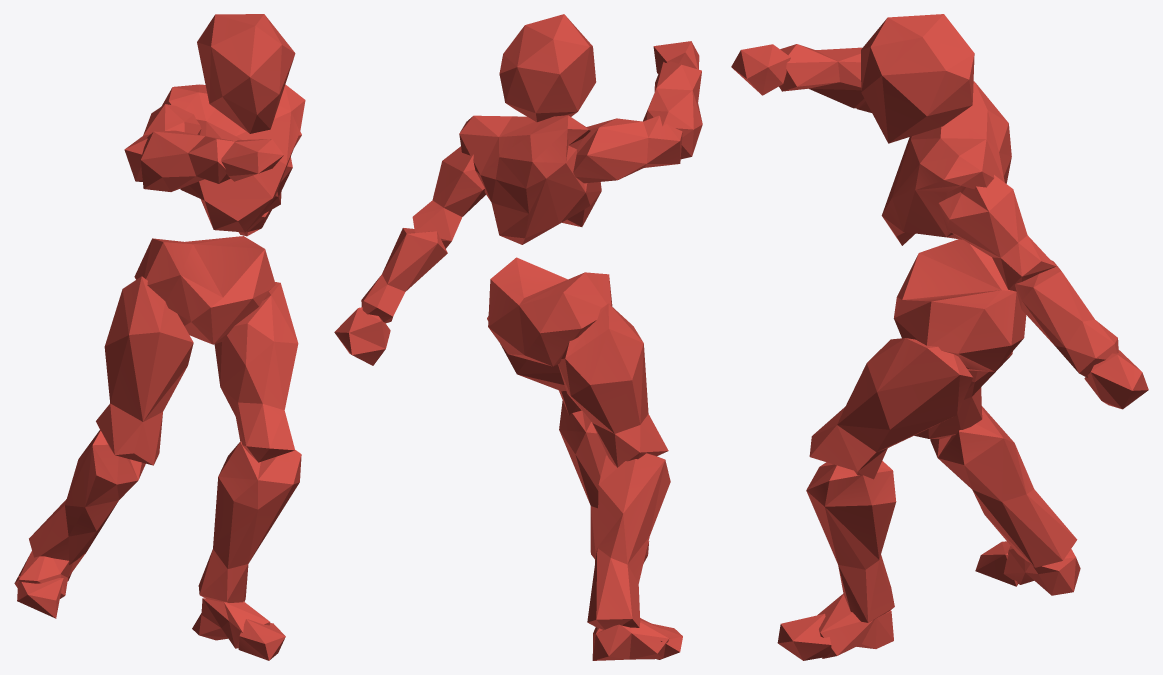
The model's file is 2dancer0170.obj.
3 renders of one model, left to right at view 1: azimuth 30°, elevation 25°; view 2: azimuth 150°, elevation 25°; view 3: azimuth 270°, elevation 25°, orthographic. The views are drawn at different scales.
Visible parts, largest first — view 1: Beta_Surface; view 2: Beta_Surface; view 3: Beta_Surface.
Boxes of the visible parts, x1,y1,x2,y2 form: Beta_Surface: (14, 14, 305, 660); Beta_Surface: (334, 14, 702, 660); Beta_Surface: (731, 14, 1148, 660).
Bounding box in the file's own units: 0.9412 × 1.75 × 1.02.
